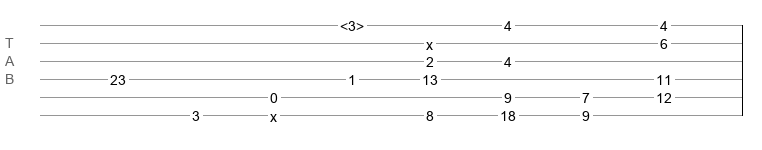0: (270, 90, 278, 100)
1: (348, 72, 356, 82)
11: (656, 72, 672, 82)
12: (656, 90, 672, 100)
13: (422, 72, 438, 82)
18: (500, 108, 516, 118)
2: (426, 54, 434, 64)
23: (110, 72, 126, 82)
3: (192, 108, 200, 118)
4: (504, 54, 512, 64), (504, 18, 512, 28), (660, 18, 668, 28)
6: (660, 36, 668, 46)
7: (582, 90, 590, 100)
8: (426, 108, 434, 118)
9: (504, 90, 512, 100), (582, 108, 590, 118)
harmonic: (340, 18, 364, 28)
x: (270, 109, 277, 117), (426, 37, 433, 45)
